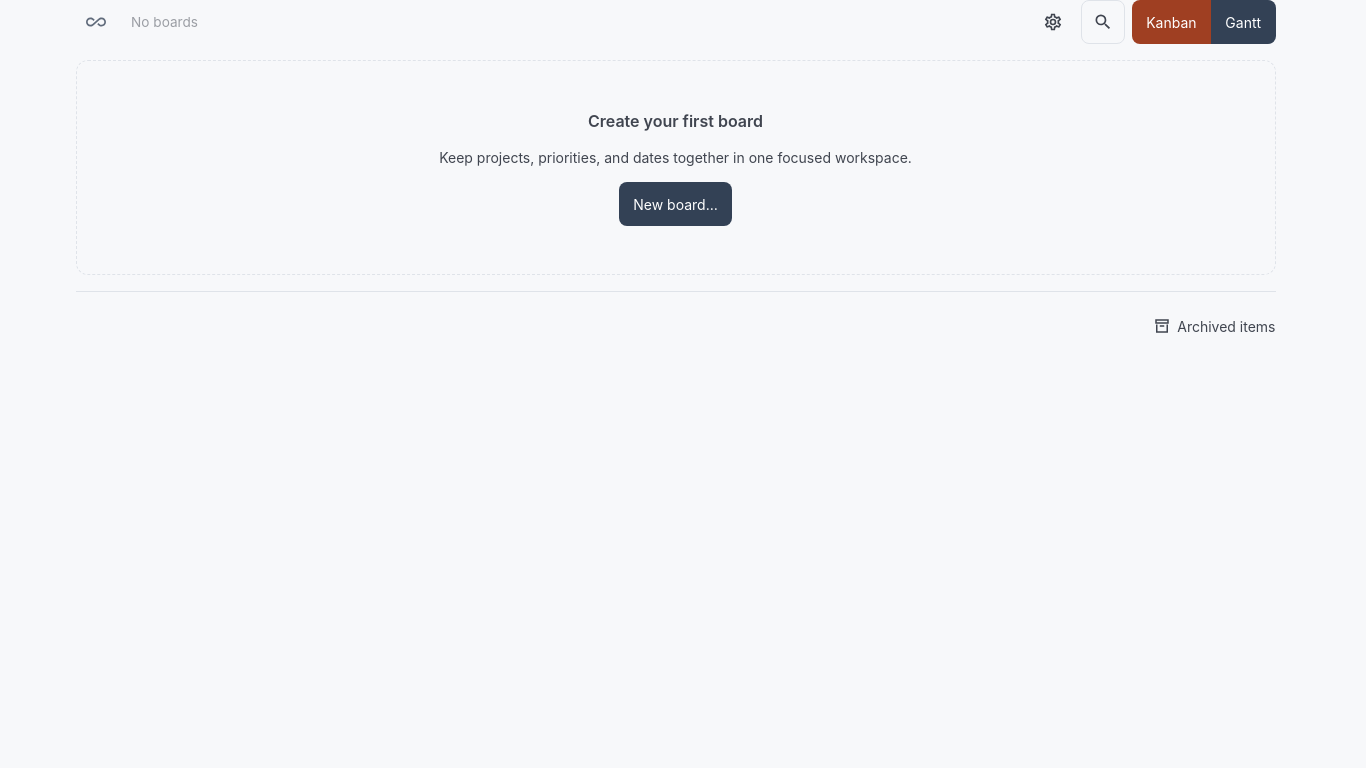
Test: BoardView › shows the first-board prompt after an empty board list has loaded
The image size is (1366, 768).
Step 1. Click the button "New board…" → (675, 204), box [619, 182, 732, 226]
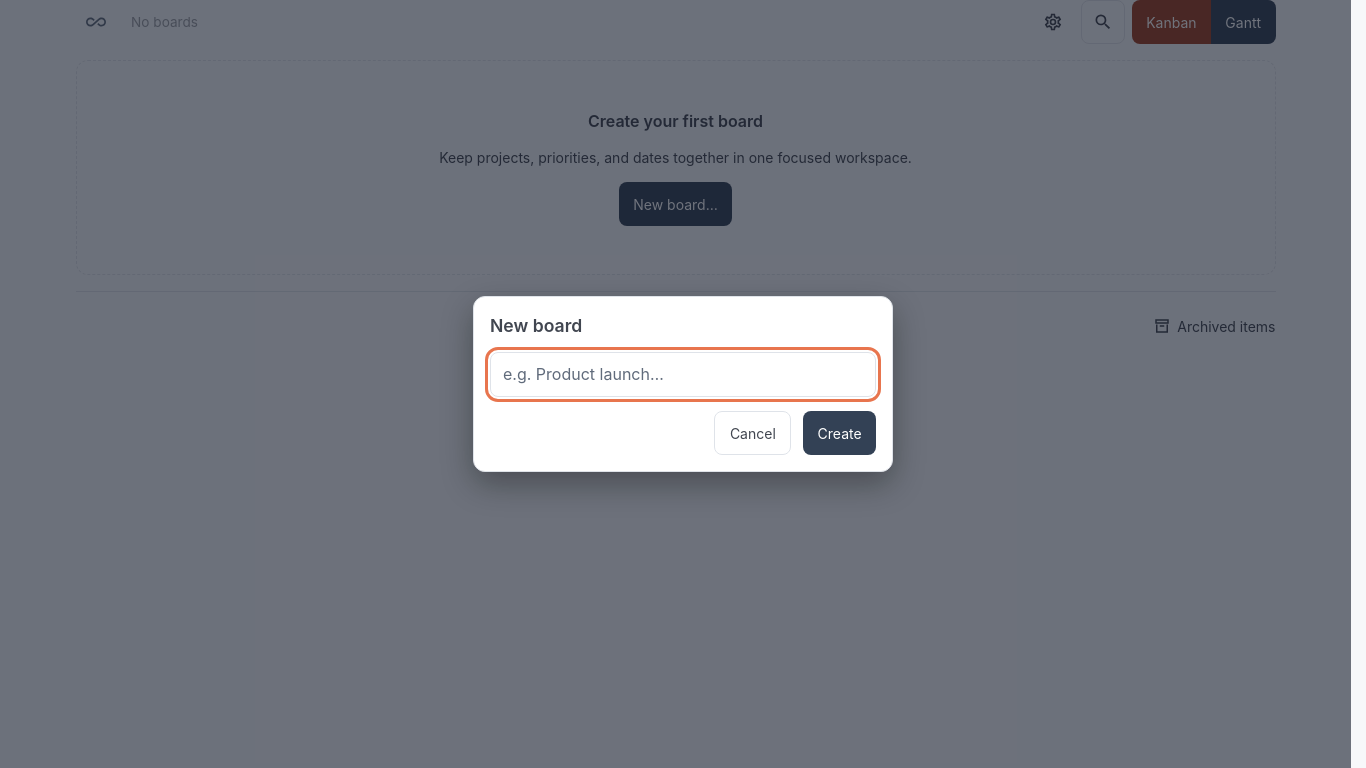
Check: the dialog is shown, box [473, 296, 893, 472]
Check: the field named "boardName" is shown, box [490, 352, 876, 397]
